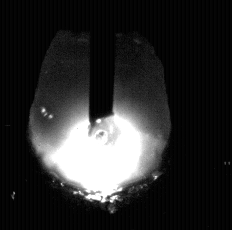arame: (90, 0, 114, 128)
poca: (29, 0, 171, 230)
